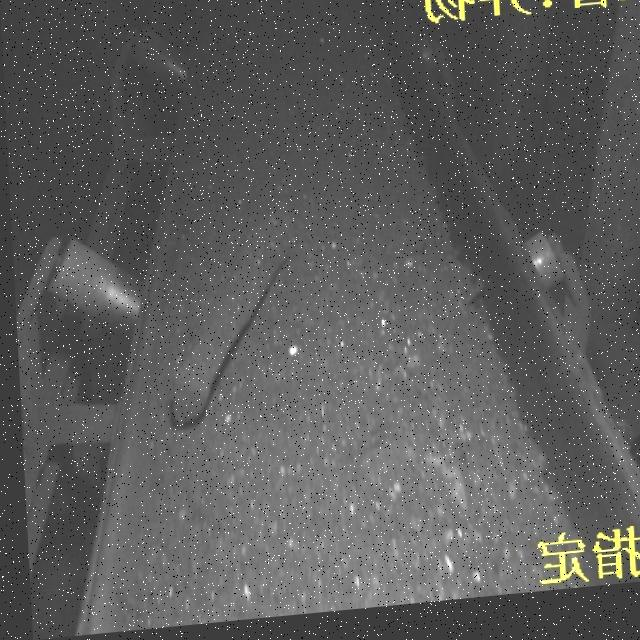bolt: (160, 222, 289, 433)
